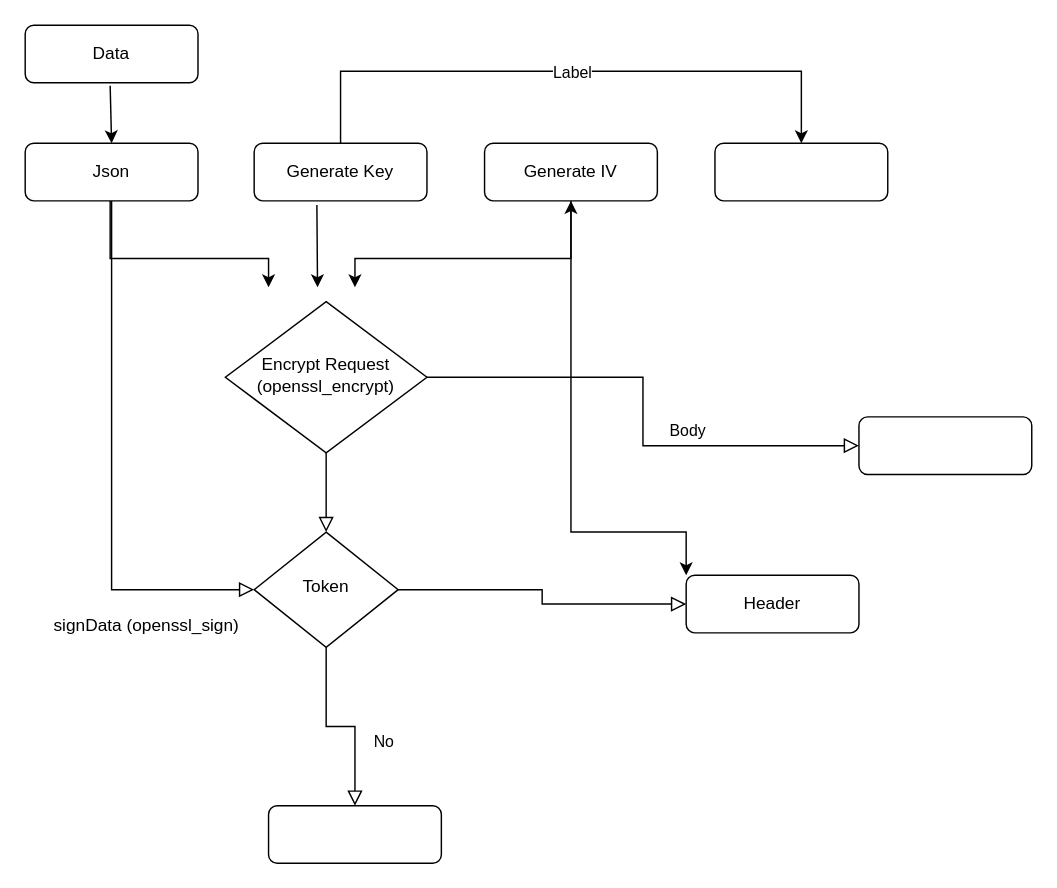
This 1057x888 diagram has some shape labels left out. Here are the shapes that lost their labels. From the top down, the centre of each, then its label:
(801,171): Encrypted Key
(945,444): API Call
(354,833): Repair Lamp
